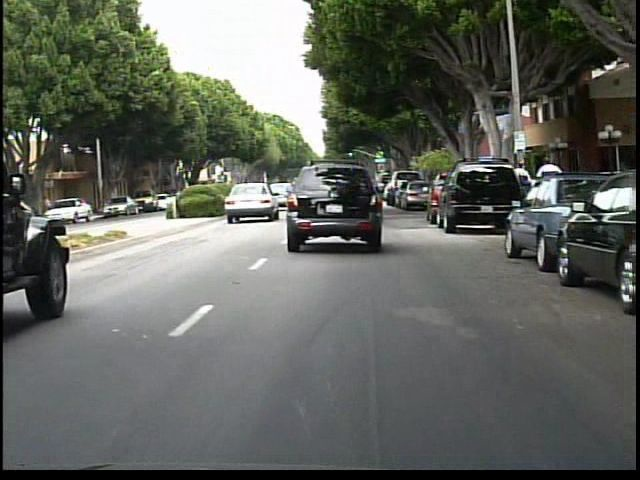person: (533, 151, 565, 218), (508, 158, 533, 216), (41, 191, 61, 225)
